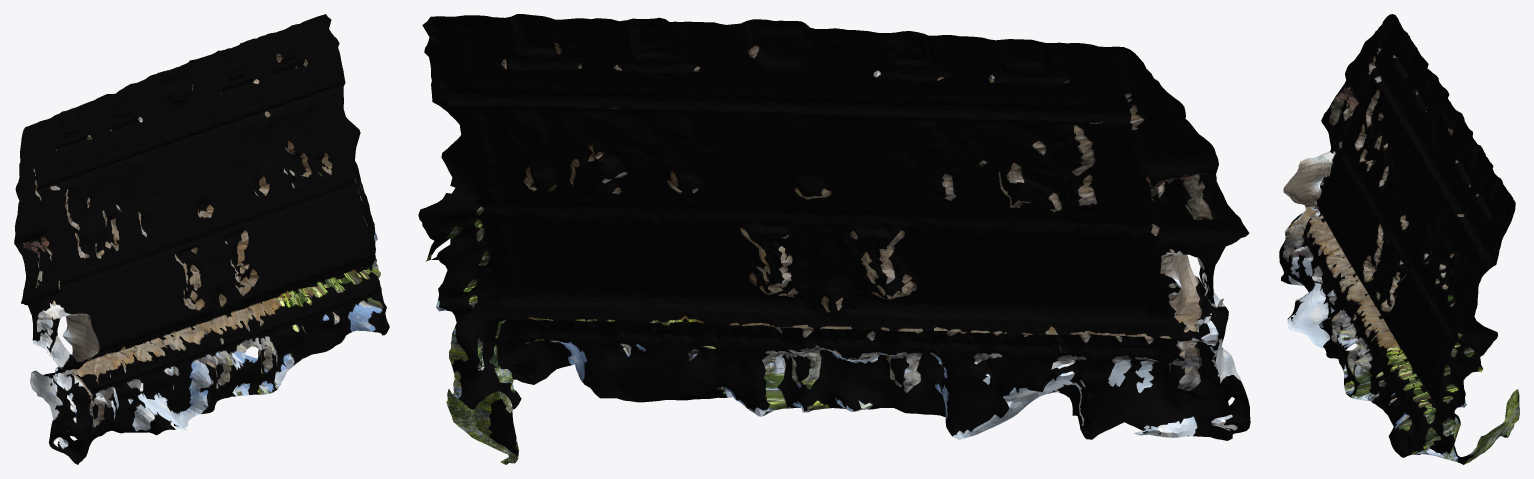
Rendered from texturedMesh.obj.
3 views of the same model, side by side, from view 1: azimuth 30°, elevation 25°; view 2: azimuth 150°, elevation 25°; view 3: azimuth 270°, elevation 25° (orthographic). The views are drawn at different scales.
Parts seen in each view (by area): view 1: TexturedMesh; view 2: TexturedMesh; view 3: TexturedMesh.
Boxes of the visible parts, x1=… form: TexturedMesh: x1=14, y1=14, x2=389, y2=464; TexturedMesh: x1=418, y1=14, x2=1250, y2=464; TexturedMesh: x1=1279, y1=14, x2=1519, y2=464.
Bounding box in the file's own units: 1.47 × 0.9734 × 0.7589.
Materials: 4 (4 with a texture image).
